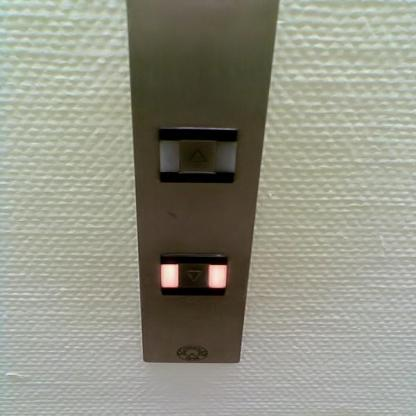down: (178, 263, 210, 288)
up: (175, 138, 218, 172)
